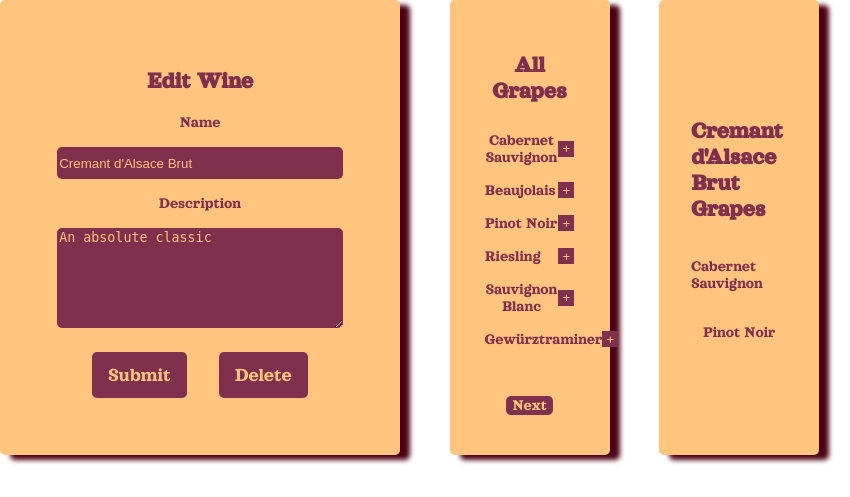
it: <EditWine /> › submits data on button click
The image size is (850, 497).
Clear the field showing "Cremant d'Alsace Brut" at (200, 163), box x1=57 y1=147 x2=343 y2=179
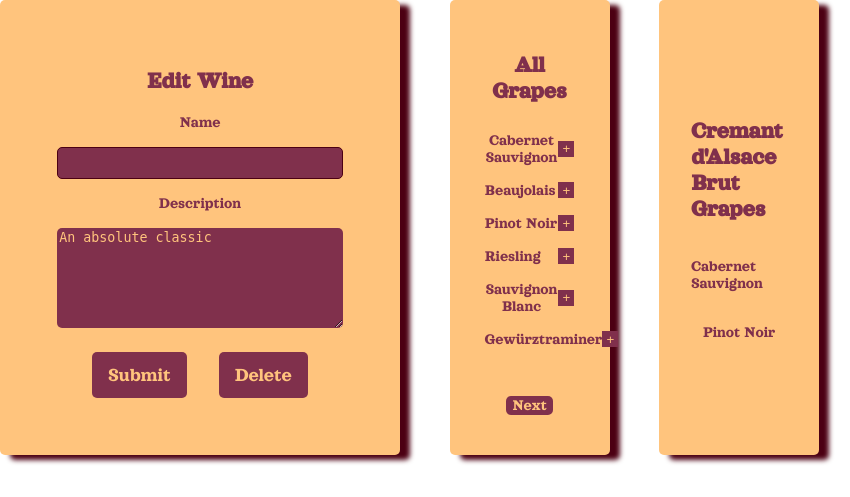
Clear the text box labelled "Description" at (200, 278), box x1=57 y1=228 x2=343 y2=328
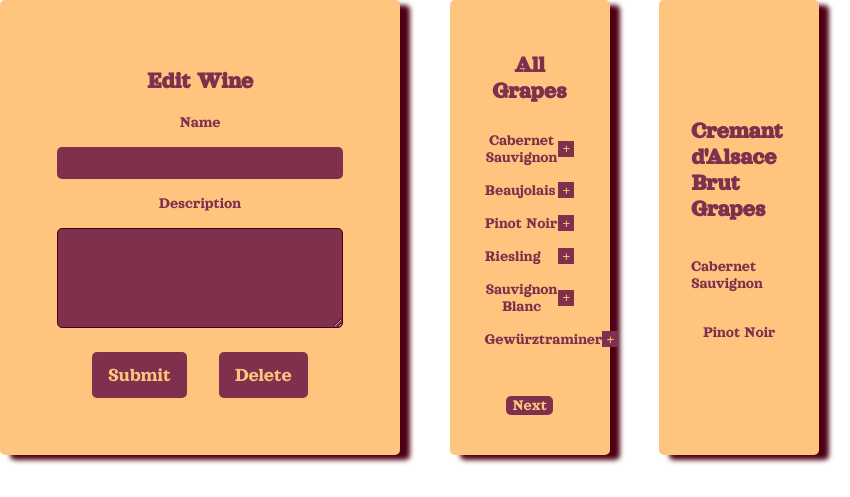
Type "Beaujolais" into the field showing "Cremant d'Alsace Brut" at (200, 163), box x1=57 y1=147 x2=343 y2=179
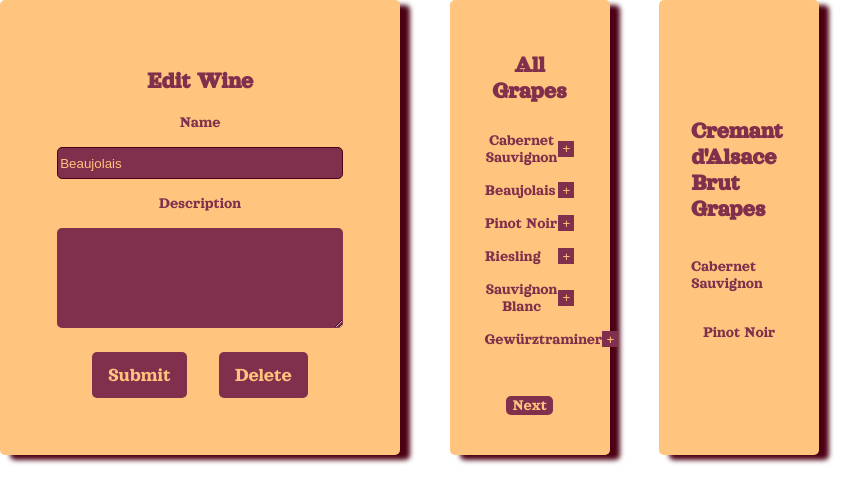
Type "Always good" into the text box labelled "Description" at (200, 278), box x1=57 y1=228 x2=343 y2=328
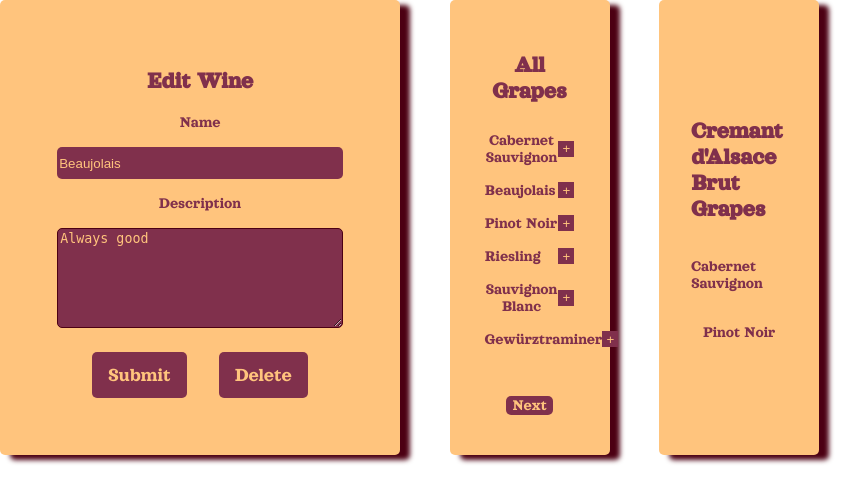
Click the button "Submit" at (139, 375), box x1=92 y1=352 x2=187 y2=398
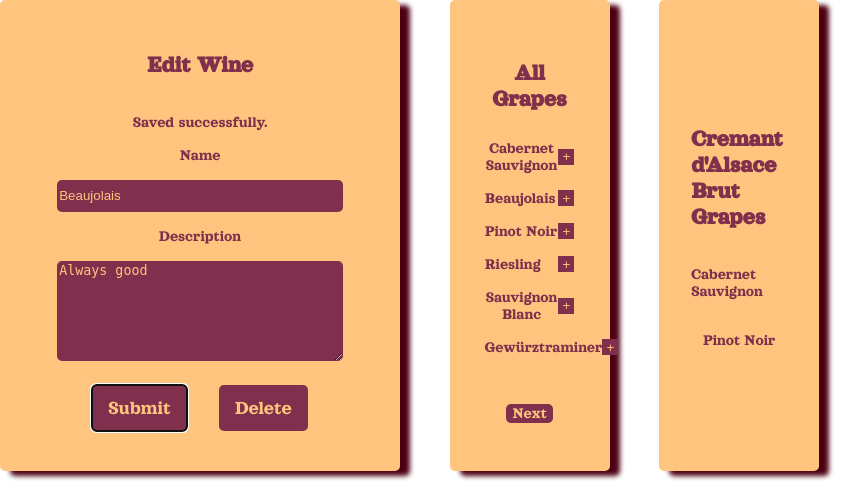
Expected: the text "Saved successfully." is shown, x1=133 y1=114 x2=267 y2=131
